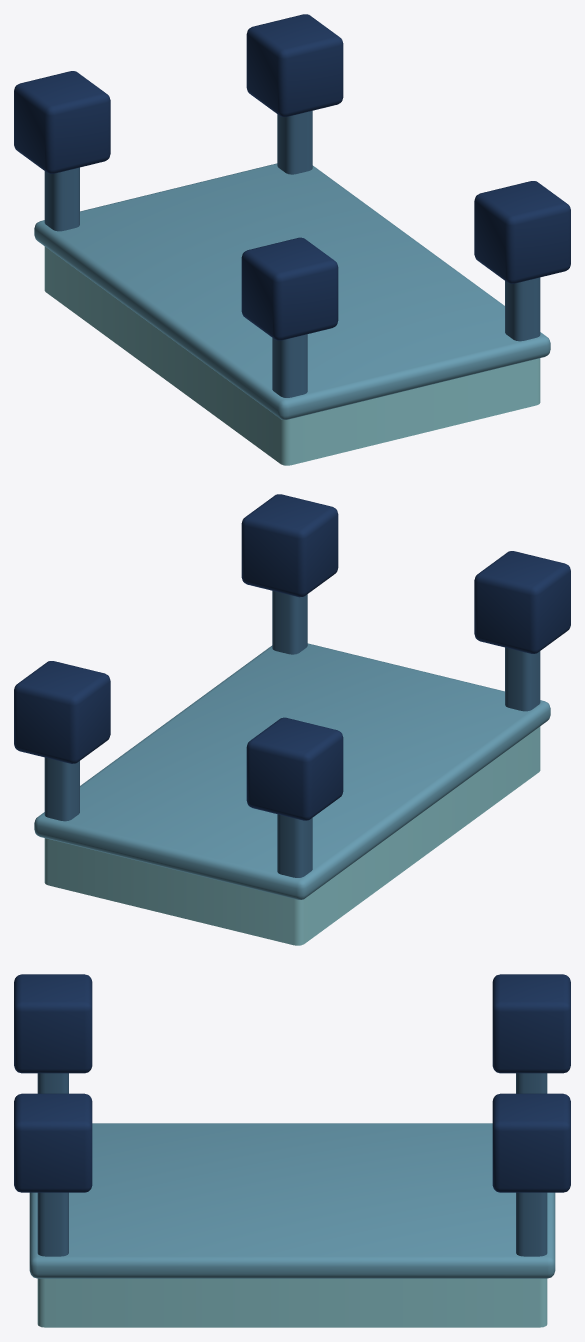
Rendered from GroundLevelCastle.fbx.
The picture shows the model from 3 angles, top to bottom: view 1: azimuth 30°, elevation 25°; view 2: azimuth 150°, elevation 25°; view 3: azimuth 270°, elevation 25°; orthographic projection. The views are drawn at different scales.
Visible parts, largest first — view 1: GroundLevelCastle; view 2: GroundLevelCastle; view 3: GroundLevelCastle.
Part boxes in pixels (bbox=[...]): GroundLevelCastle: bbox=[14, 14, 570, 465]; GroundLevelCastle: bbox=[14, 494, 570, 945]; GroundLevelCastle: bbox=[14, 974, 570, 1327].
Size of the model in its own units: 920 by 600 by 1420.
